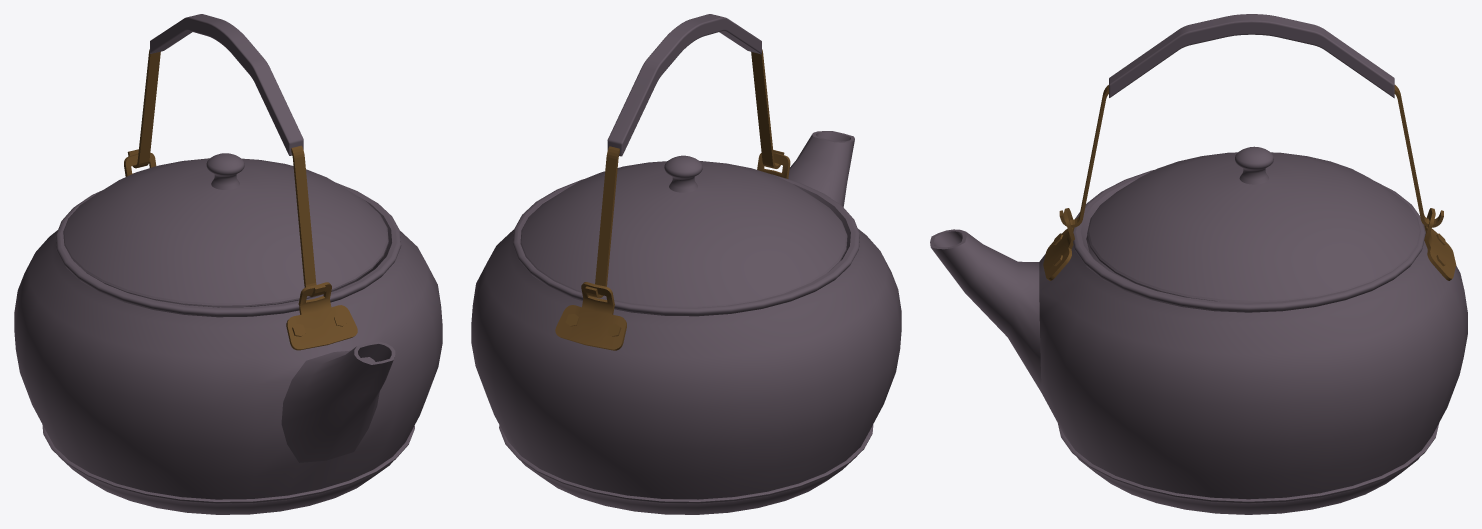
3 views of the same model, side by side, from view 1: azimuth 30°, elevation 25°; view 2: azimuth 150°, elevation 25°; view 3: azimuth 270°, elevation 25° (orthographic). The views are drawn at different scales.
Visible parts, largest first — view 1: pSphere.014, pSphere.015, pSphere.017, pSphere.018, pSphere.016; view 2: pSphere.014, pSphere.015, pSphere.017, pSphere.016, pSphere.018; view 3: pSphere.014, pSphere.015, pSphere.017, pSphere.016, pSphere.018.
Part boxes in pixels (x1=…): pSphere.014: x1=14, y1=182, x2=442, y2=514; pSphere.015: x1=63, y1=153, x2=388, y2=307; pSphere.017: x1=150, y1=14, x2=303, y2=155; pSphere.018: x1=127, y1=49, x2=325, y2=296; pSphere.016: x1=124, y1=152, x2=357, y2=350; pSphere.014: x1=471, y1=131, x2=901, y2=514; pSphere.015: x1=520, y1=155, x2=847, y2=307; pSphere.017: x1=607, y1=14, x2=761, y2=156; pSphere.016: x1=555, y1=152, x2=790, y2=350; pSphere.018: x1=585, y1=49, x2=784, y2=298; pSphere.014: x1=930, y1=170, x2=1467, y2=514; pSphere.015: x1=1087, y1=146, x2=1420, y2=302; pSphere.017: x1=1109, y1=14, x2=1394, y2=98; pSphere.016: x1=1043, y1=208, x2=1456, y2=280; pSphere.018: x1=1059, y1=85, x2=1443, y2=227.
Bounding box in the file's own units: 27.82 × 31.78 × 34.09.
